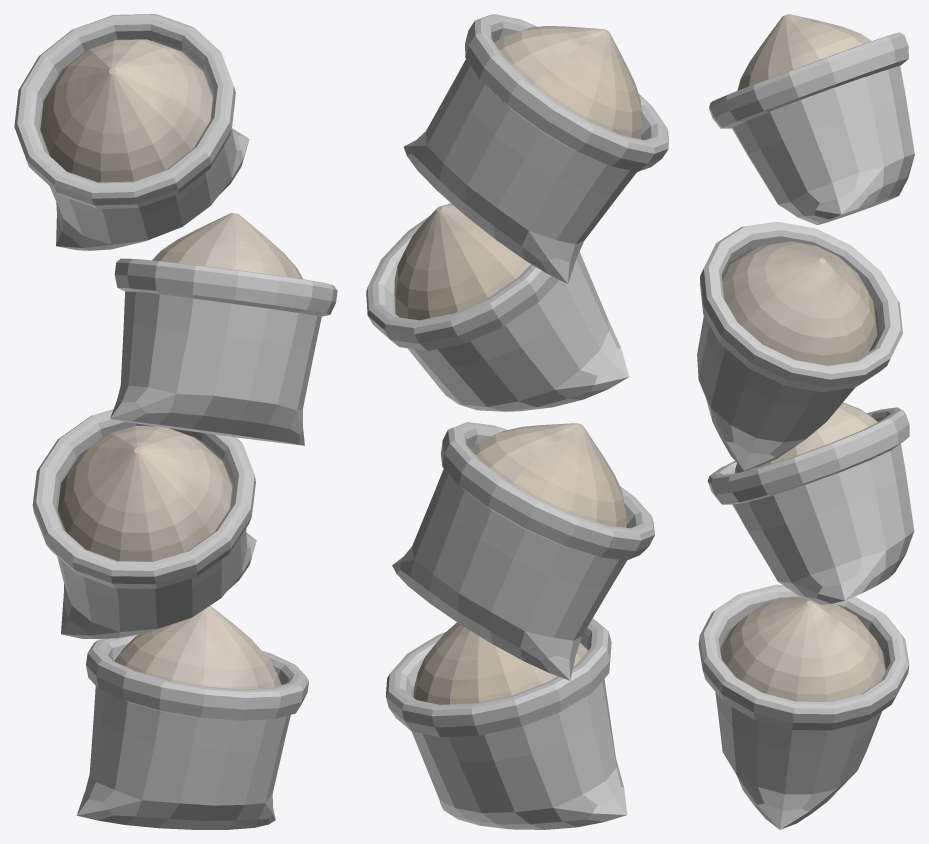
File: flour4.fbx
The picture shows the model from 3 angles, left to right: view 1: azimuth 30°, elevation 25°; view 2: azimuth 150°, elevation 25°; view 3: azimuth 270°, elevation 25°; orthographic projection. The views are drawn at different scales.
Parts seen in each view (by area): view 1: Flour4; view 2: Flour4; view 3: Flour4.
Boxes of the visible parts, box(x1,y1,x2,y2) form: Flour4: box(14, 14, 337, 829); Flour4: box(366, 14, 668, 829); Flour4: box(697, 14, 914, 829).
Size of the model in its own units: 15.51 by 41.75 by 11.02.
